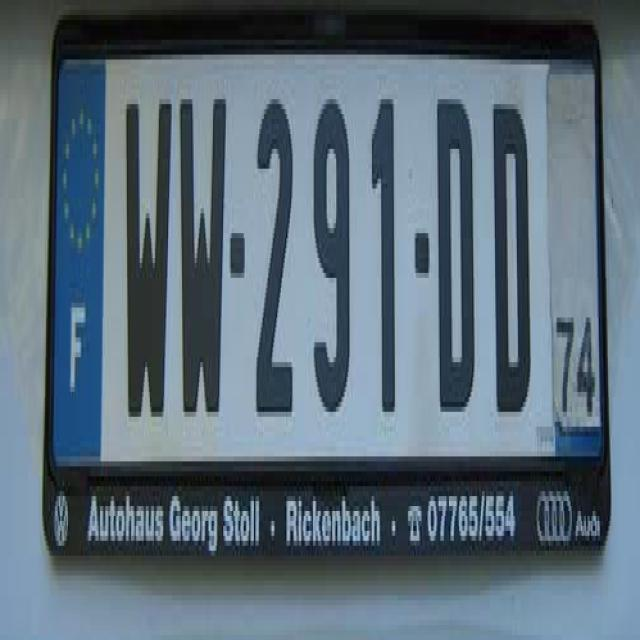EU: (54, 44, 603, 453)
France: (51, 56, 105, 457)
